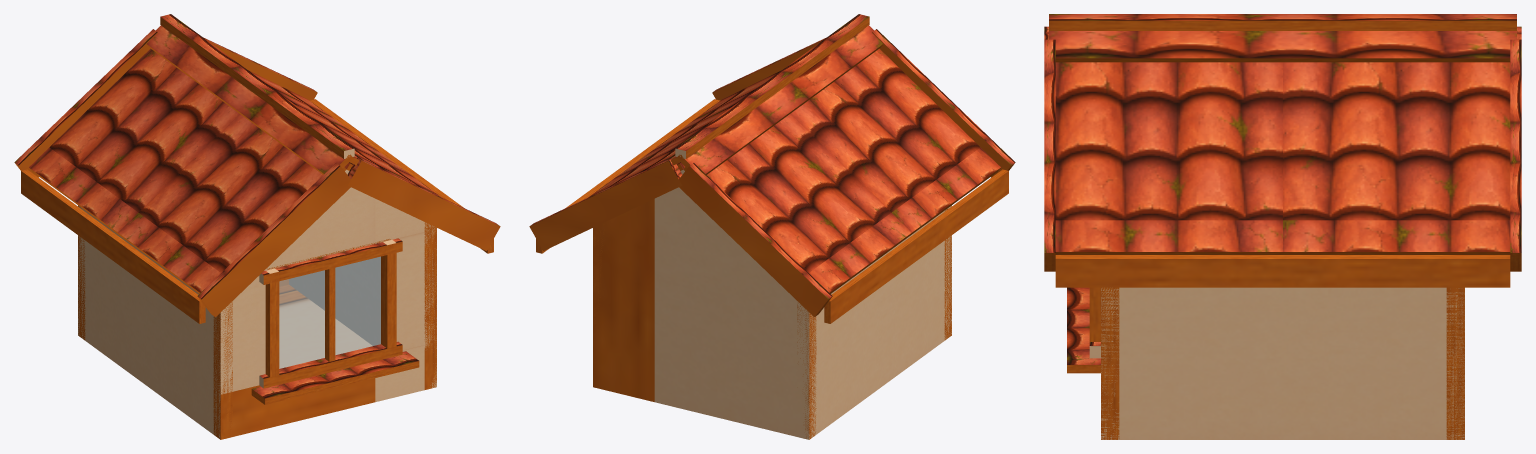
Rendered from Roof_Dormer.fbx.
3 views of the same model, side by side, from view 1: azimuth 30°, elevation 25°; view 2: azimuth 150°, elevation 25°; view 3: azimuth 270°, elevation 25° (orthographic). The views are drawn at different scales.
Visible parts, largest first — view 1: Roof_Dormer; view 2: Roof_Dormer; view 3: Roof_Dormer.
Part boxes in pixels (box(x1,y1,x2,y2)): Roof_Dormer: box(14, 14, 500, 439); Roof_Dormer: box(529, 14, 1015, 439); Roof_Dormer: box(1044, 14, 1521, 439).
Size of the model in its own units: 1.94 by 1.73 by 2.1.
